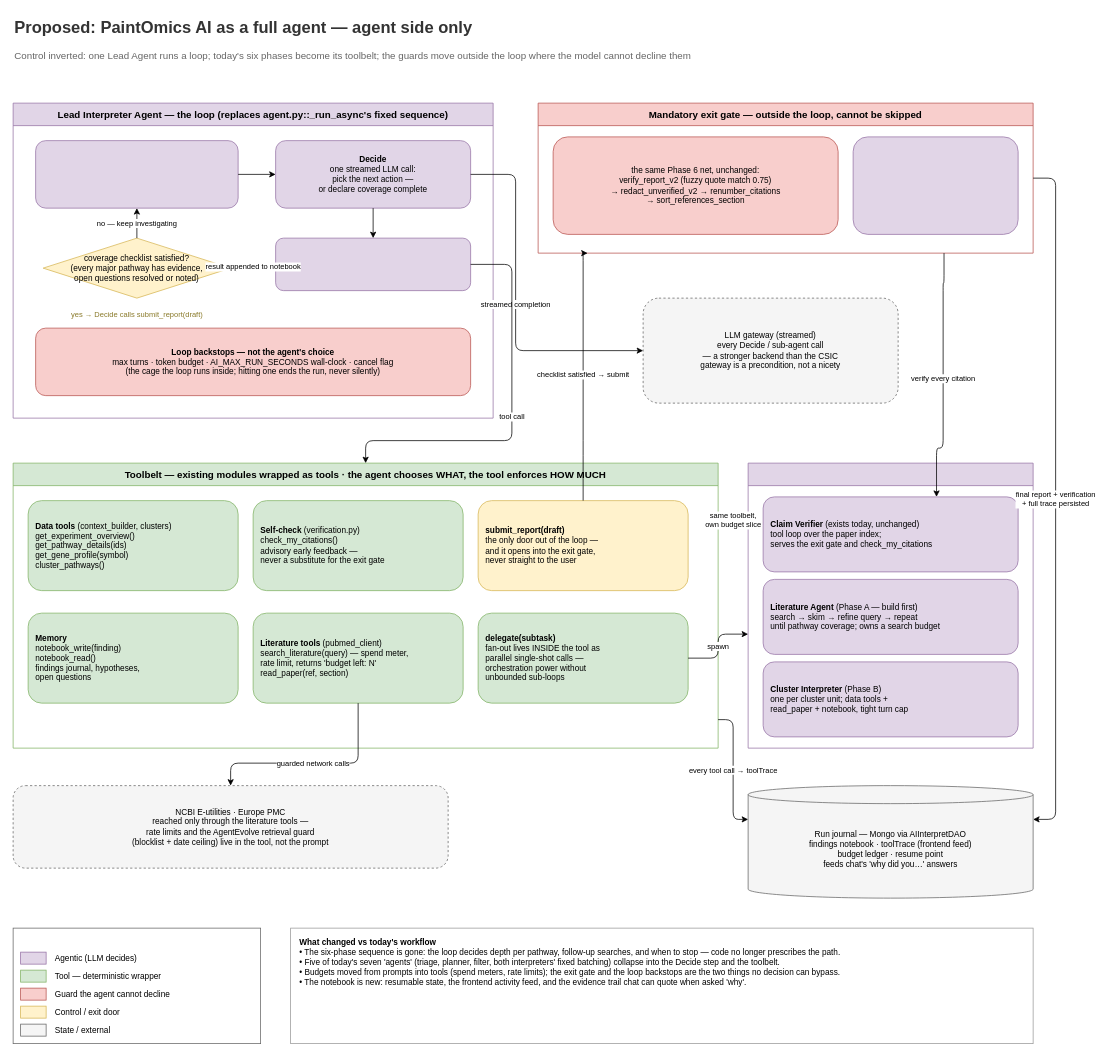
Image size: 1109x1057. Some labels were removed from this diagram. Here are the shapes that lost their labels. From the top down, the box of each, then its label:
(35, 140, 238, 208): Observe notebook so far · budget ledger · data summaries · last tool result
(852, 136, 1018, 234): per-citation check via the Claim Verifier sub-agent (unchanged tool loop)
(275, 237, 471, 291): Act execute the chosen tool
(747, 462, 1033, 748): Sub-agents — spawned only via delegate()
(12, 927, 261, 1044): Legend
